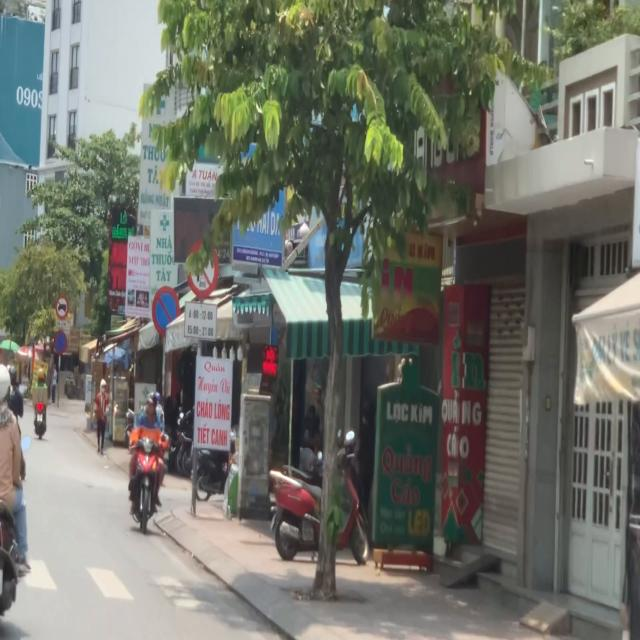Cam con lai: (186, 238, 219, 300), (56, 294, 68, 320)
Cam do: (152, 286, 180, 337), (54, 329, 68, 355)
